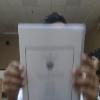notebook: (17, 22, 86, 99)
